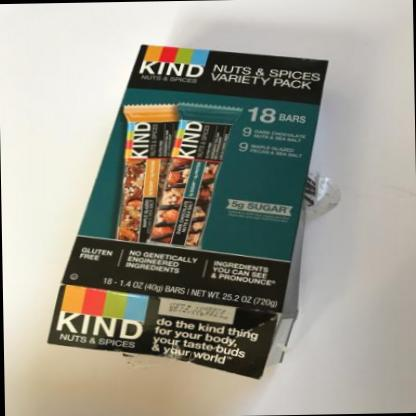Paper: (47, 45, 325, 379)
